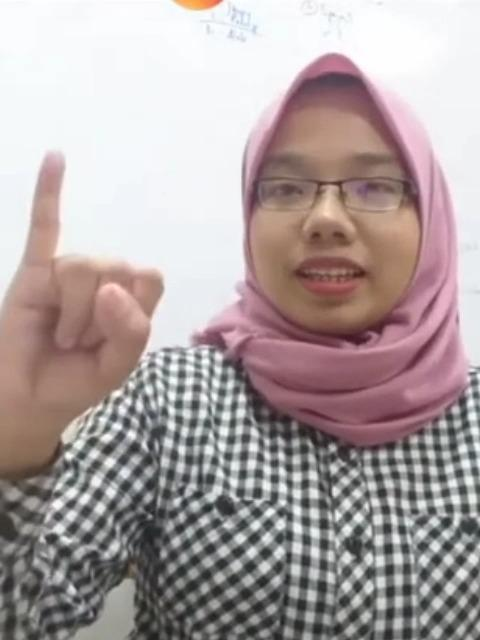I: (0, 138, 168, 438)
